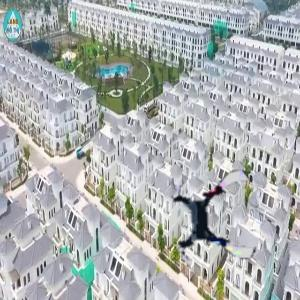drone: (169, 170, 263, 264)
